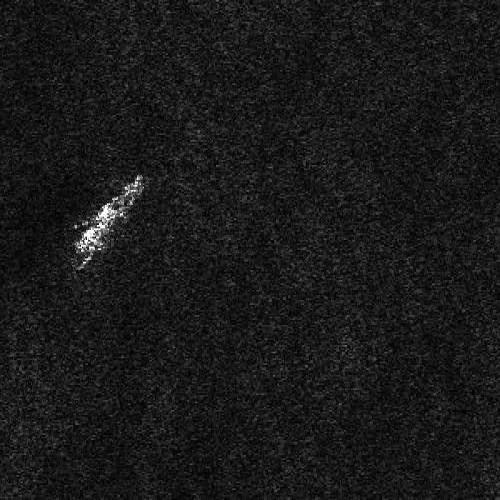ship: (71, 172, 145, 255)
